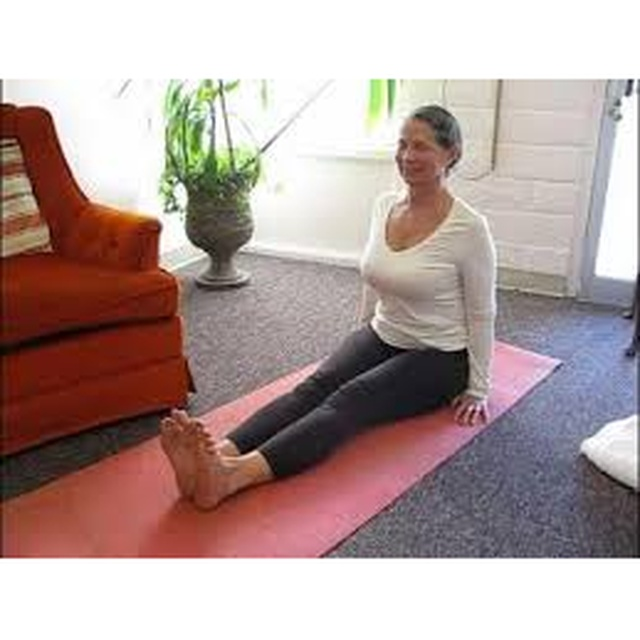Staff_Pose: (159, 102, 500, 513)
